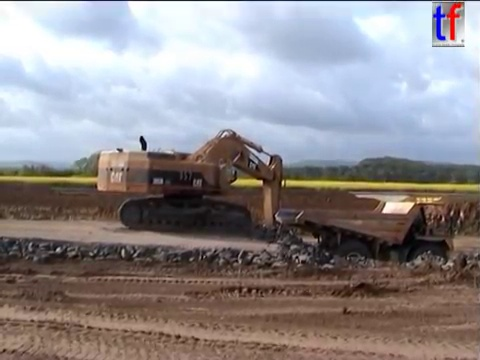excavator: (94, 126, 298, 258)
truck: (272, 193, 465, 282)
